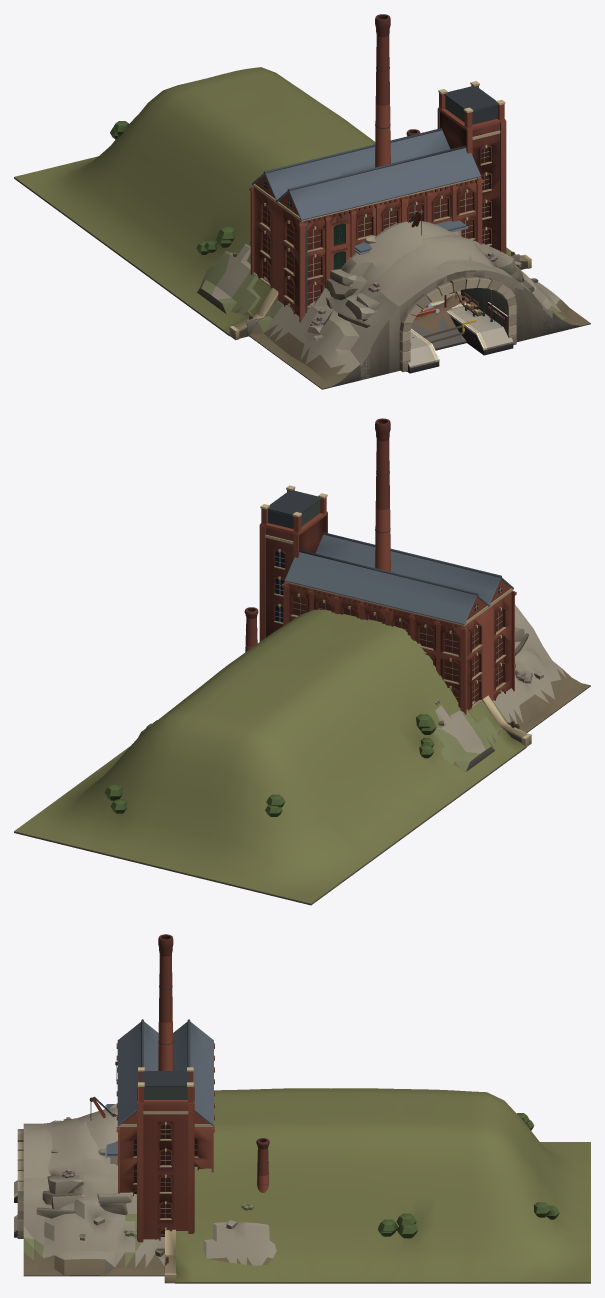
File: works.glb
3 views of the same model, one above another, from view 1: azimuth 30°, elevation 25°; view 2: azimuth 150°, elevation 25°; view 3: azimuth 270°, elevation 25° (orthographic). The views are drawn at different scales.
Visible parts, largest first — view 1: tunnel_rail-mesh, mill_big-mesh, outcrop_a-mesh, outcrop_b-mesh, station_platforms-mesh, chimney-mesh, subsidence-mesh, station_grand-mesh; view 2: tunnel_rail-mesh, mill_big-mesh, outcrop_b-mesh, outcrop_a-mesh, chimney-mesh; view 3: tunnel_rail-mesh, mill_big-mesh, outcrop_a-mesh, outcrop_b-mesh, chimney-mesh, mill_site-mesh.
Boxes of the visible parts, bbox=[...] form: tunnel_rail-mesh: bbox=[14, 67, 531, 340]; mill_big-mesh: bbox=[249, 81, 506, 322]; outcrop_a-mesh: bbox=[249, 235, 590, 389]; outcrop_b-mesh: bbox=[197, 220, 585, 385]; station_platforms-mesh: bbox=[407, 288, 513, 373]; chimney-mesh: bbox=[375, 14, 390, 167]; subsidence-mesh: bbox=[411, 294, 476, 350]; station_grand-mesh: bbox=[353, 220, 468, 310]; tunnel_rail-mesh: bbox=[14, 609, 531, 905]; mill_big-mesh: bbox=[259, 485, 516, 714]; outcrop_b-mesh: bbox=[433, 627, 553, 772]; outcrop_a-mesh: bbox=[515, 604, 590, 732]; chimney-mesh: bbox=[375, 418, 390, 571]; tunnel_rail-mesh: bbox=[164, 1088, 590, 1283]; mill_big-mesh: bbox=[115, 1019, 214, 1242]; outcrop_a-mesh: bbox=[17, 1118, 276, 1276]; outcrop_b-mesh: bbox=[23, 1104, 132, 1276]; chimney-mesh: bbox=[158, 934, 173, 1070]; mill_site-mesh: bbox=[256, 1138, 269, 1192].
Bounding box in the file's own units: 1.09 × 1.01 × 1.9.
